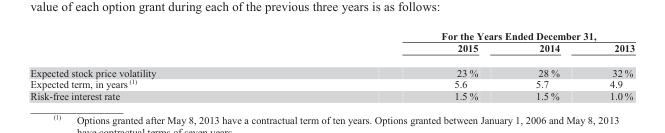table: (29, 29, 634, 101)
table column: (29, 29, 297, 101), (297, 29, 506, 101), (506, 29, 584, 101), (584, 29, 634, 101)
table column header: (29, 29, 634, 59)
table row: (29, 41, 634, 59), (29, 59, 634, 77), (29, 29, 634, 41), (29, 77, 634, 89), (29, 89, 634, 101)
table spanning cell: (297, 29, 634, 41)
